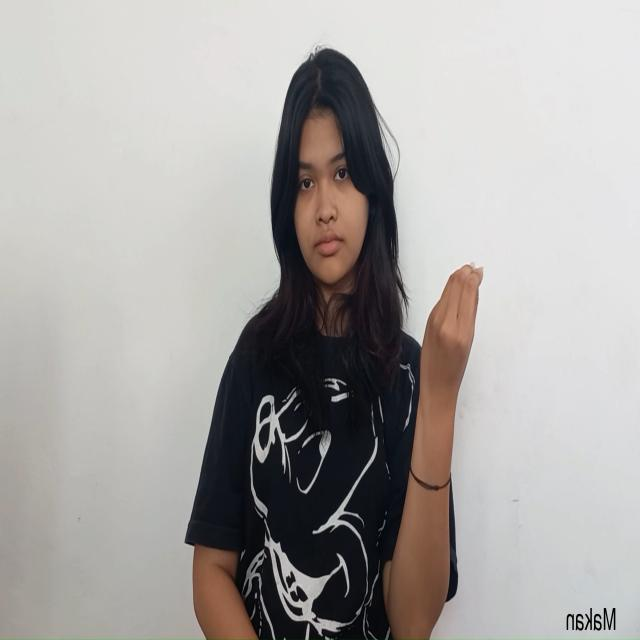Makan -BISINDO-: (413, 261, 484, 443)
